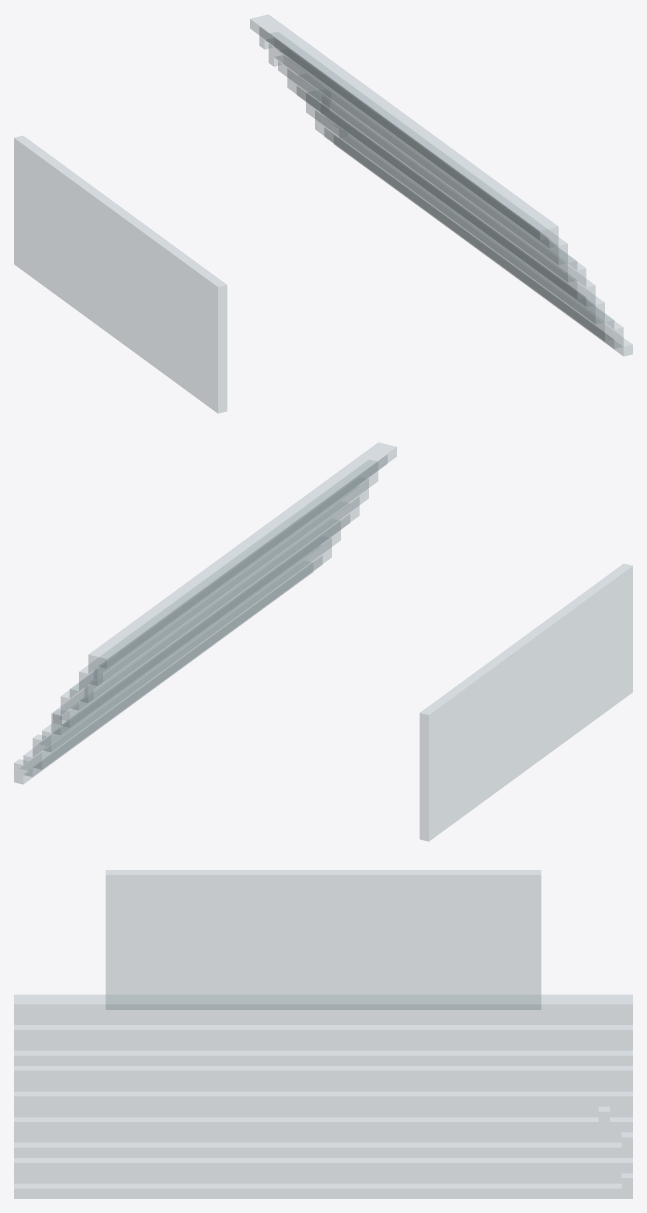
The model's file is technical_windows.glb.
The picture shows the model from 3 angles, top to bottom: view 1: azimuth 30°, elevation 25°; view 2: azimuth 150°, elevation 25°; view 3: azimuth 270°, elevation 25°; orthographic projection. The views are drawn at different scales.
Visible parts, largest first — view 1: body:compound; view 2: body:compound; view 3: body:compound.
Boxes of the visible parts, x1,y1,x2,y2 form: body:compound: [14, 14, 632, 413]; body:compound: [14, 442, 632, 841]; body:compound: [14, 870, 632, 1198].
Bounding box in the file's own units: 1.25 × 0.4688 × 1.69.
